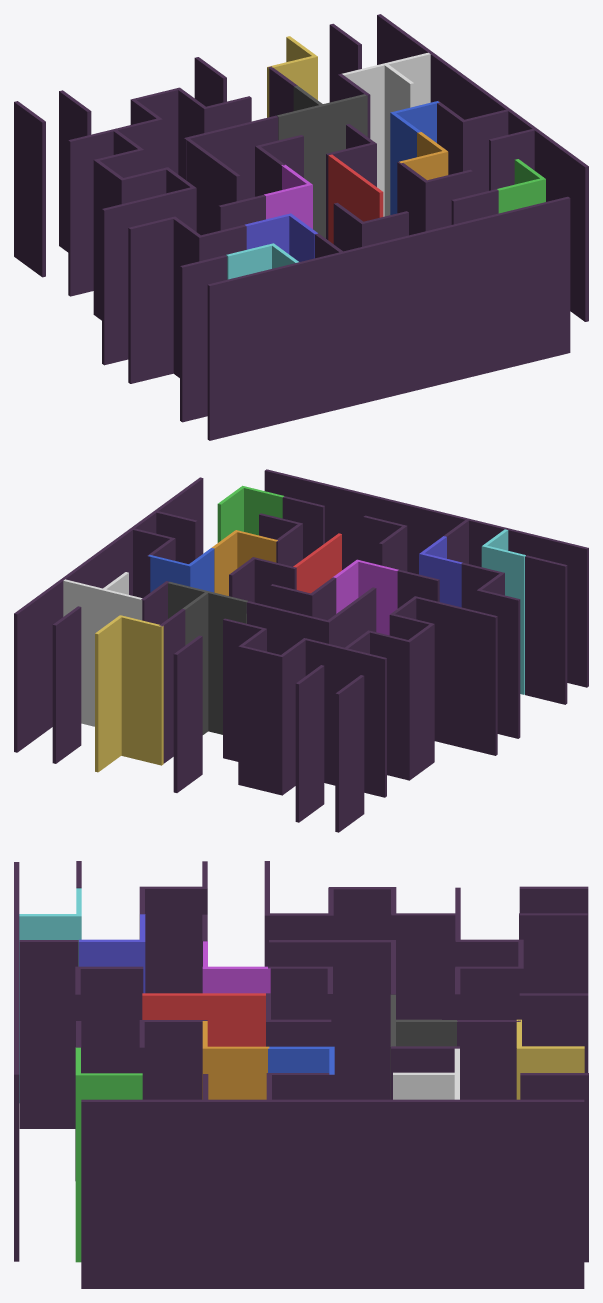
File: maze.fbx
3 renders of one model, top to bottom at view 1: azimuth 30°, elevation 25°; view 2: azimuth 150°, elevation 25°; view 3: azimuth 270°, elevation 25°, orthographic. The views are drawn at different scales.
Parts seen in each view (by area): view 1: Cube.020, Cube.016, Cube.031, Cube.012, Cube.035, T02, Cube.017, T01, Cube.011, Cube.026, F01, L07 (+16 smaller); view 2: Cube.016, Cube.020, Cube.031, L05, Cube.011, Cube.012, T02, Cube.035, T01, Cube.033, Cube.017, Cube.019 (+16 smaller); view 3: Cube.031, Cube.016, Cube.020, Cube.035, Cube.024, Cube.012, Cube.018, Cube.026, F01, Cube.034, Cube.019, L06 (+13 smaller).
Boxes of the visible parts, x1,y1,x2,y2 form: Cube.020: (207, 196, 570, 440); Cube.016: (68, 87, 251, 365); Cube.031: (377, 14, 588, 321); Cube.012: (128, 216, 246, 383); Cube.035: (184, 115, 278, 235); T02: (276, 85, 367, 238); Cube.017: (14, 101, 45, 277); T01: (342, 52, 430, 216); Cube.011: (180, 255, 227, 422); Cube.026: (397, 162, 472, 235); F01: (328, 154, 383, 243); L07: (390, 101, 439, 214); Cube.016: (223, 596, 497, 797); Cube.020: (264, 469, 588, 687); Cube.031: (14, 477, 203, 752); L05: (95, 615, 163, 772); Cube.011: (525, 555, 567, 704); Cube.012: (461, 562, 520, 738); T02: (168, 582, 247, 734); Cube.035: (246, 587, 376, 654); T01: (63, 572, 142, 726); Cube.033: (52, 606, 81, 763); Cube.017: (335, 675, 364, 832); Cube.019: (173, 635, 202, 792); Cube.031: (81, 1073, 584, 1288); Cube.016: (264, 861, 523, 1019); Cube.020: (14, 862, 78, 1261); Cube.035: (269, 940, 395, 1099); Cube.024: (75, 966, 143, 1180); Cube.012: (139, 861, 207, 993); Cube.018: (519, 913, 587, 993); Cube.026: (139, 1020, 207, 1099); F01: (142, 993, 265, 1046); Cube.034: (457, 1020, 520, 1099); Cube.019: (519, 993, 588, 1072); L06: (202, 1021, 269, 1099).
Size of the model in its own units: 836 by 829 by 300.
